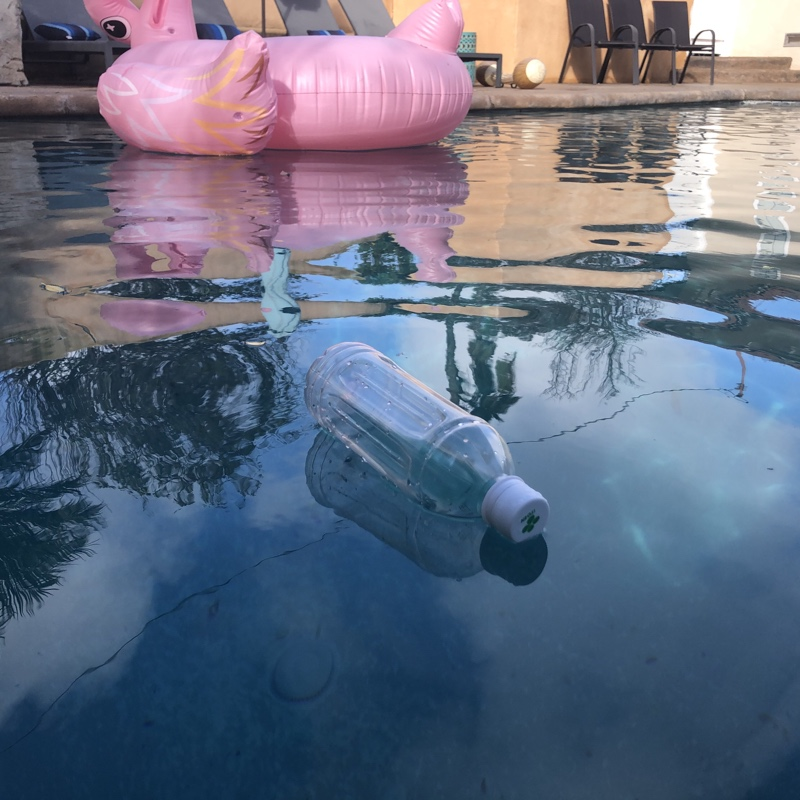Plastic Bottle: (301, 340, 554, 550)
